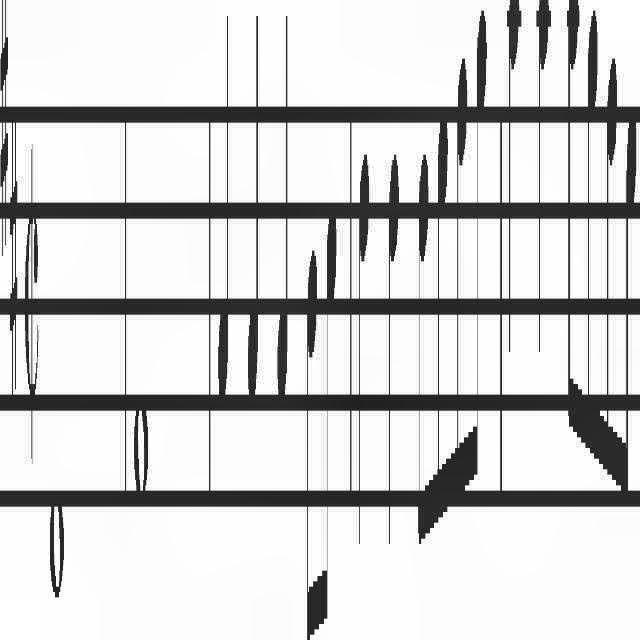Diez: (9, 109, 19, 405), (0, 0, 8, 260)
Eighth-note: (469, 2, 487, 540), (318, 191, 338, 634), (452, 43, 468, 540), (602, 52, 618, 516), (432, 96, 448, 556), (621, 92, 637, 548), (584, 1, 598, 492), (566, 0, 580, 436), (417, 137, 429, 568), (306, 240, 318, 640)
Full-note: (50, 486, 64, 602), (133, 396, 149, 492)
Quarter-note: (276, 0, 290, 416), (386, 155, 399, 565), (536, 0, 550, 368), (358, 147, 370, 566), (218, 2, 230, 418), (248, 1, 260, 412), (508, 1, 520, 380)
